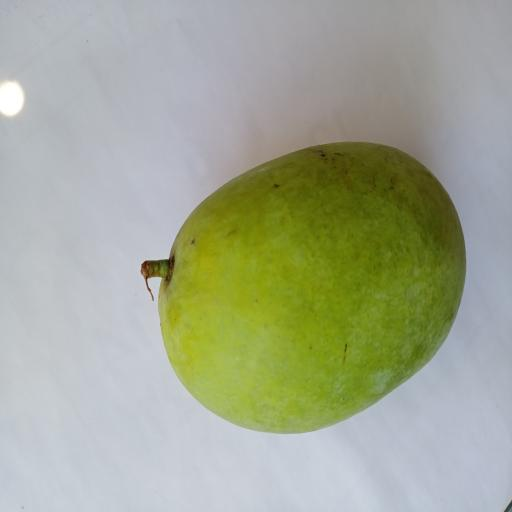mango-unripe: (111, 130, 475, 443)
